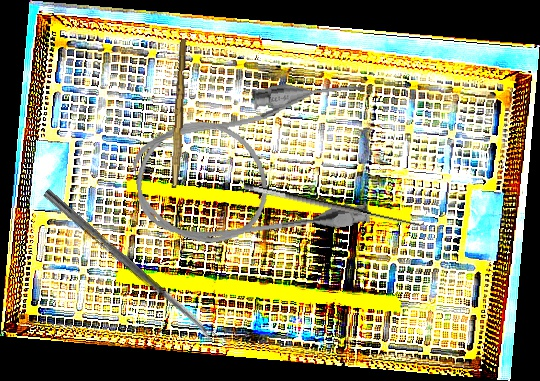Cannula: (124, 72, 385, 258)
Hook Surgical: (242, 168, 428, 234)
Scalpel Handle: (171, 38, 188, 189)
Surgical Spoon: (42, 188, 218, 344)
